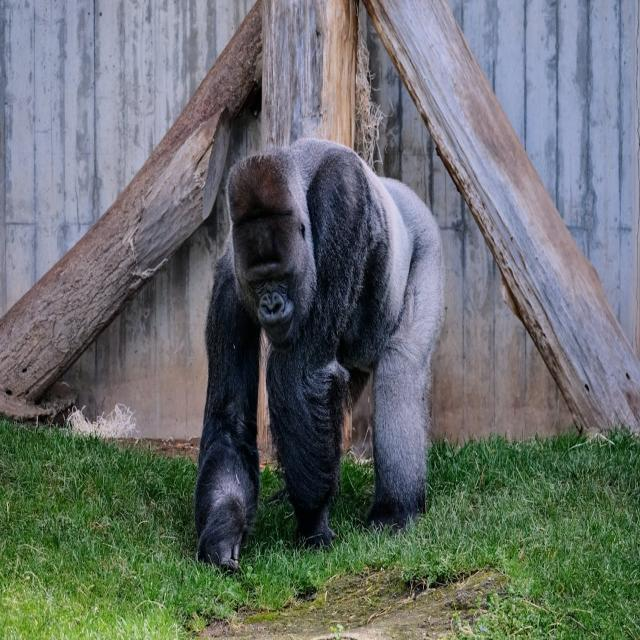Gorilla: (193, 134, 446, 571)
